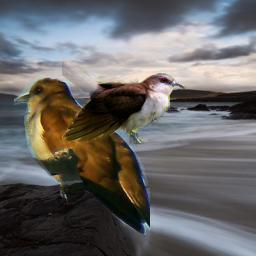Cuckoo: (14, 77, 150, 238), (62, 26, 186, 148)
